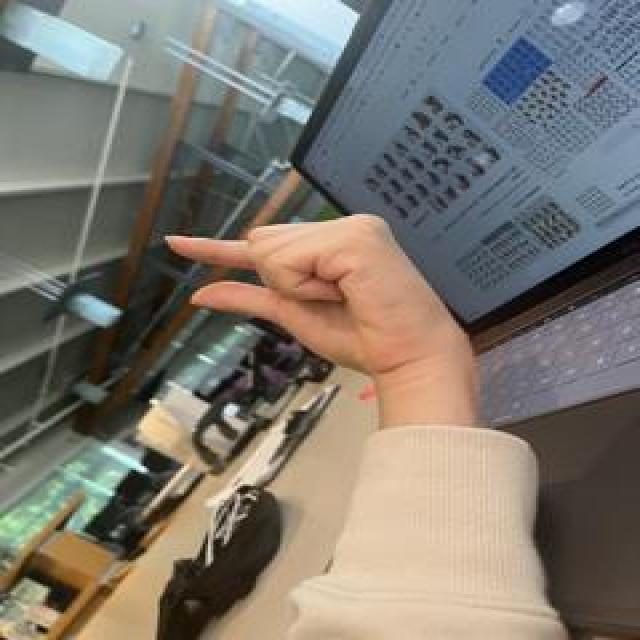G: (156, 208, 487, 380)
